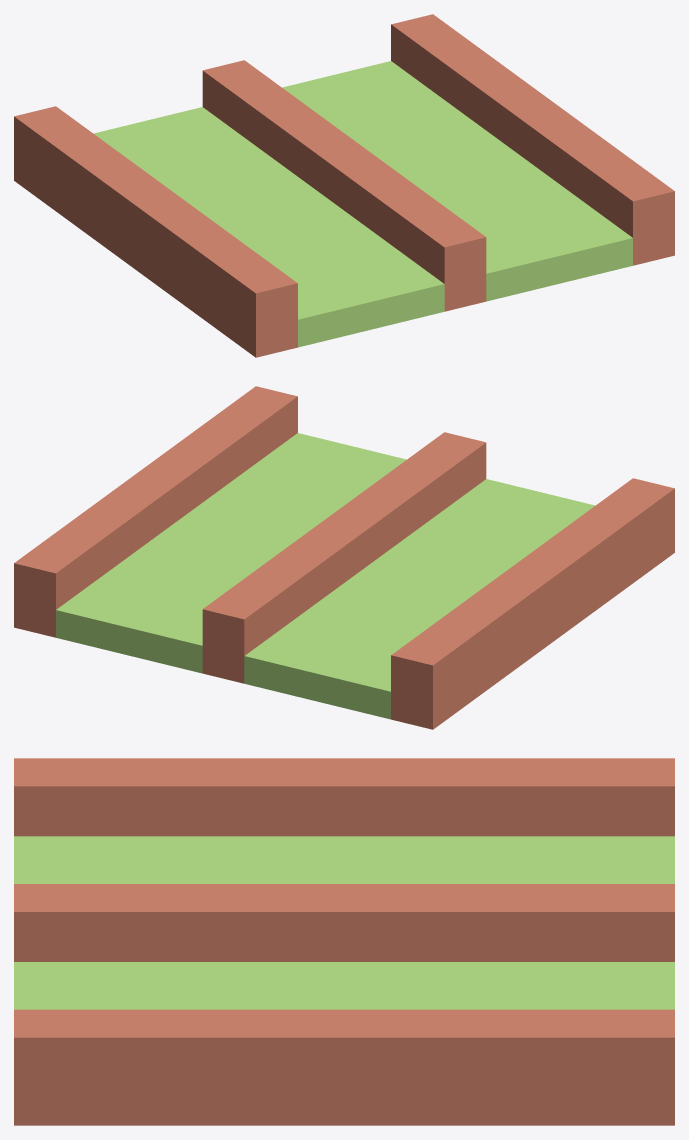
The model's file is Split_01.glb.
3 views of the same model, one above another, from view 1: azimuth 30°, elevation 25°; view 2: azimuth 150°, elevation 25°; view 3: azimuth 270°, elevation 25° (orthographic). The views are drawn at different scales.
Parts seen in each view (by area): view 1: Mesh1 Split Model; view 2: Mesh1 Split Model; view 3: Mesh1 Split Model.
Boxes of the visible parts, x1,y1,x2,y2 form: Mesh1 Split Model: (14, 14, 674, 357); Mesh1 Split Model: (14, 386, 674, 729); Mesh1 Split Model: (14, 758, 674, 1125).
Bounding box in the file's own units: 3 × 0.44 × 3.
